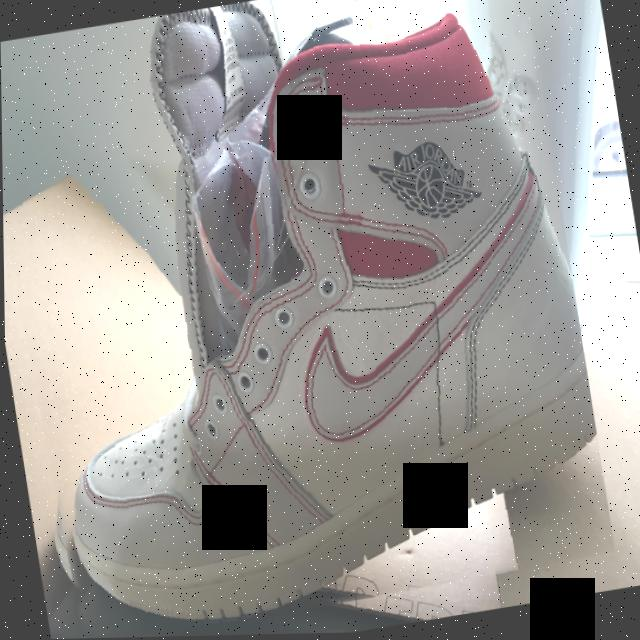shoe: (0, 0, 616, 640)
